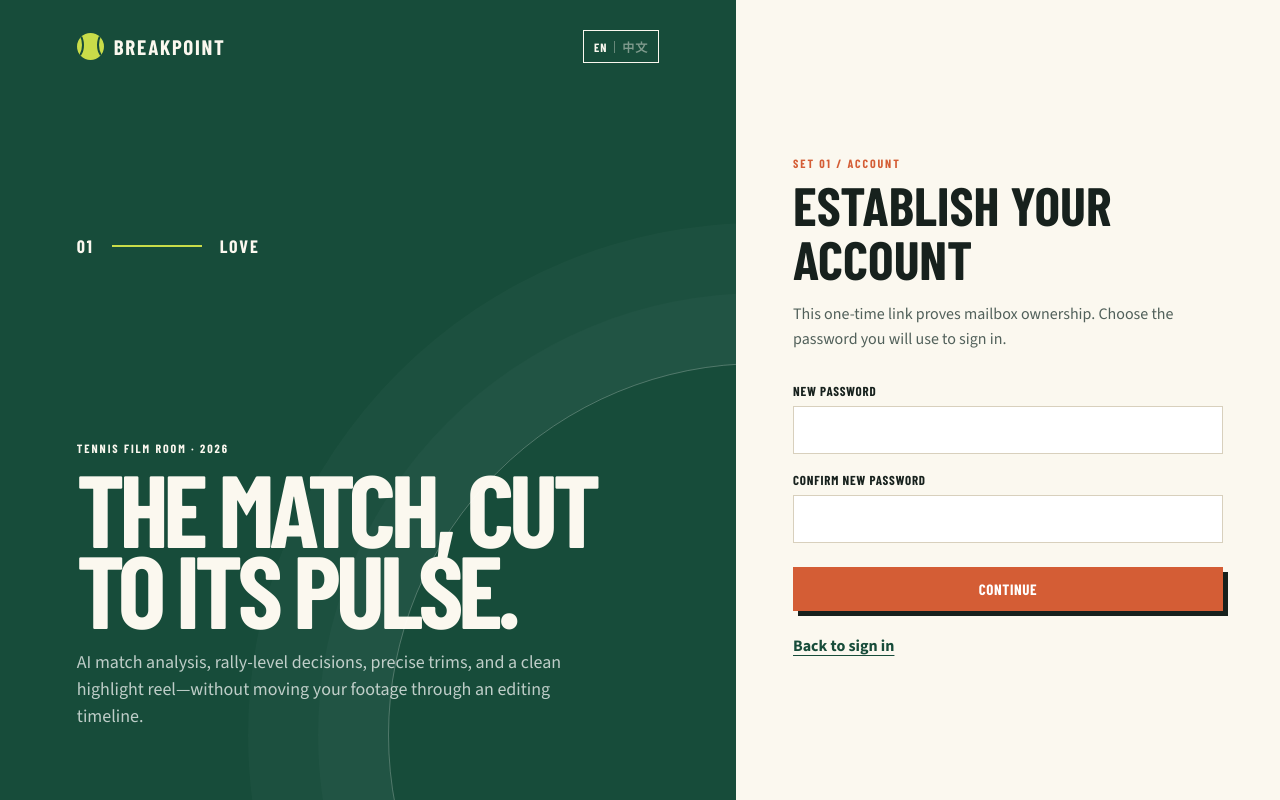
Test: AuthForm password confirmation › keeps matching passwords in place when verification fails
This screenshot has width=1280, height=800.
Type "password123" into the password field labelled "New password".
click(1008, 430); type("password123")  # box [793, 406, 1223, 454]
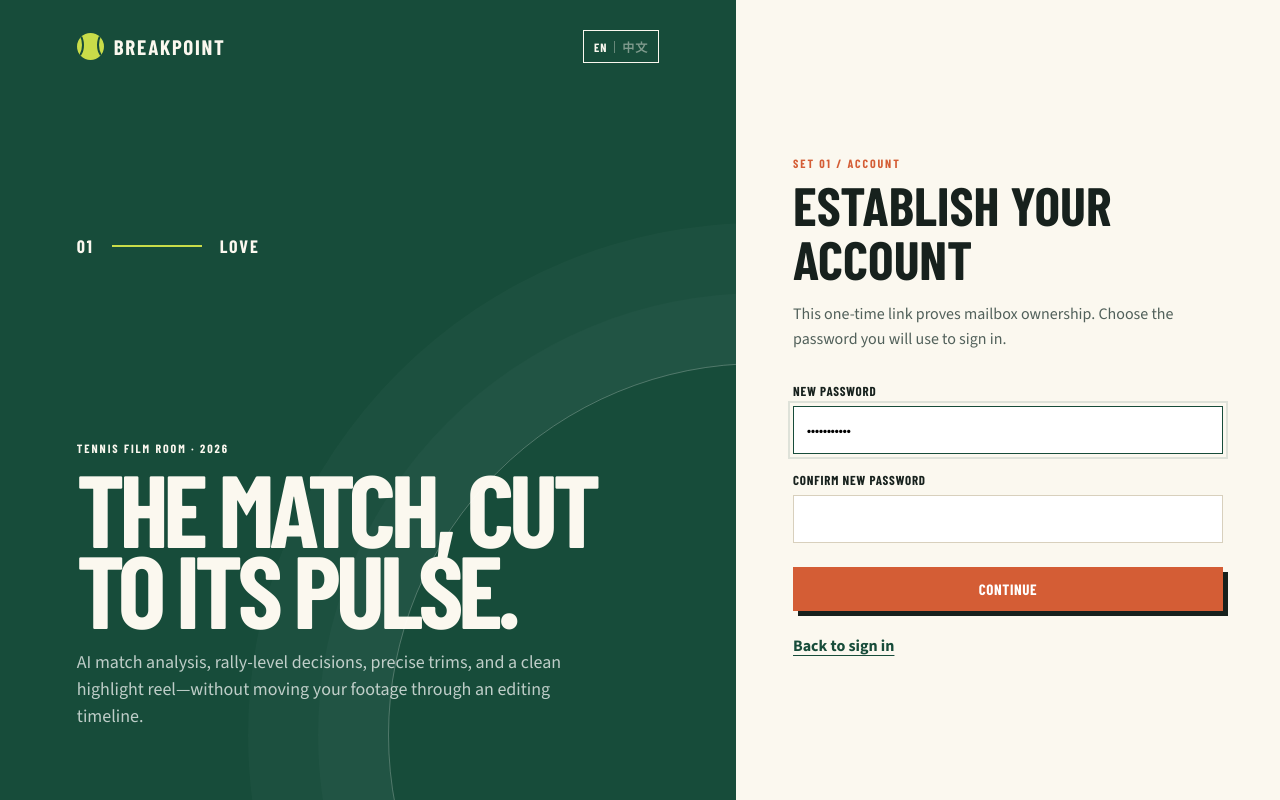
Type "password123" into the password field labelled "Confirm new password".
click(1008, 519); type("password123")  # box [793, 495, 1223, 543]
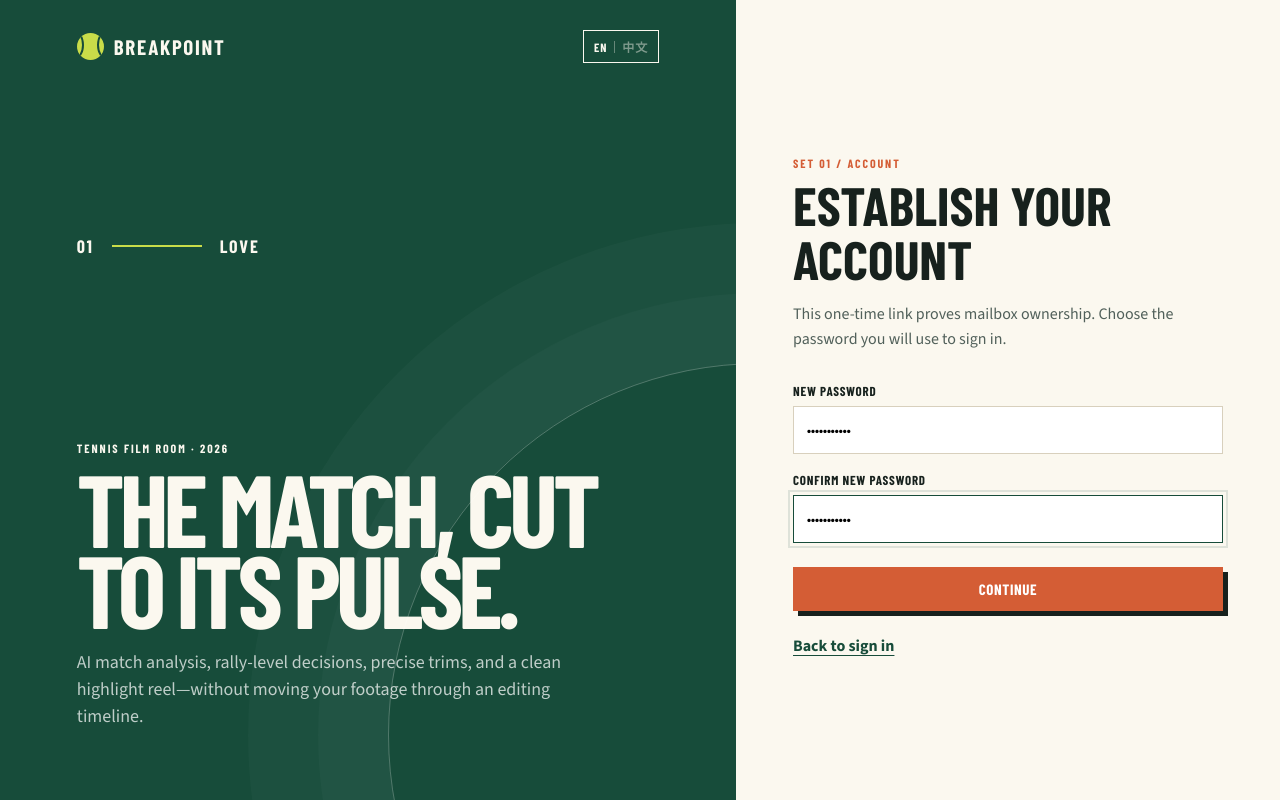
Click the button "Continue".
click(1008, 589)  # box [793, 567, 1223, 611]
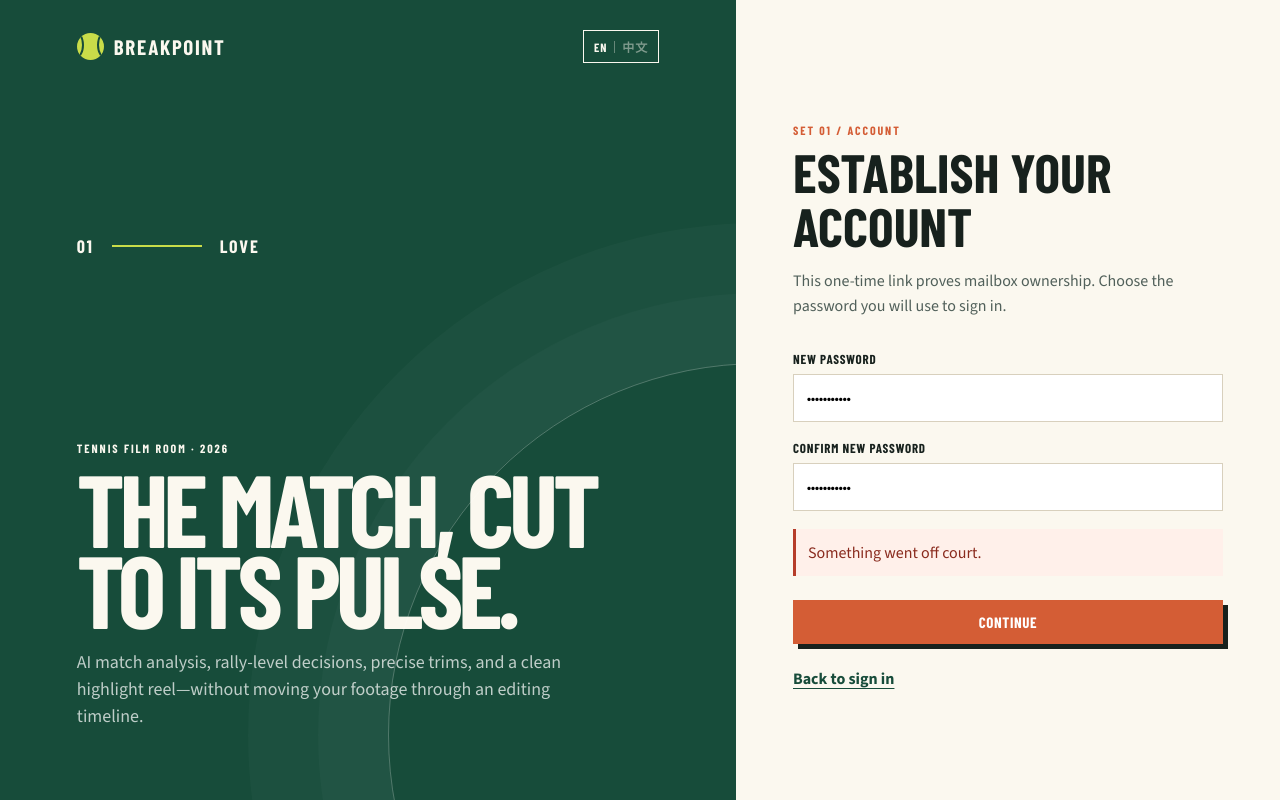
Check: the text "Something went off court." is shown, box [793, 529, 1223, 576]
